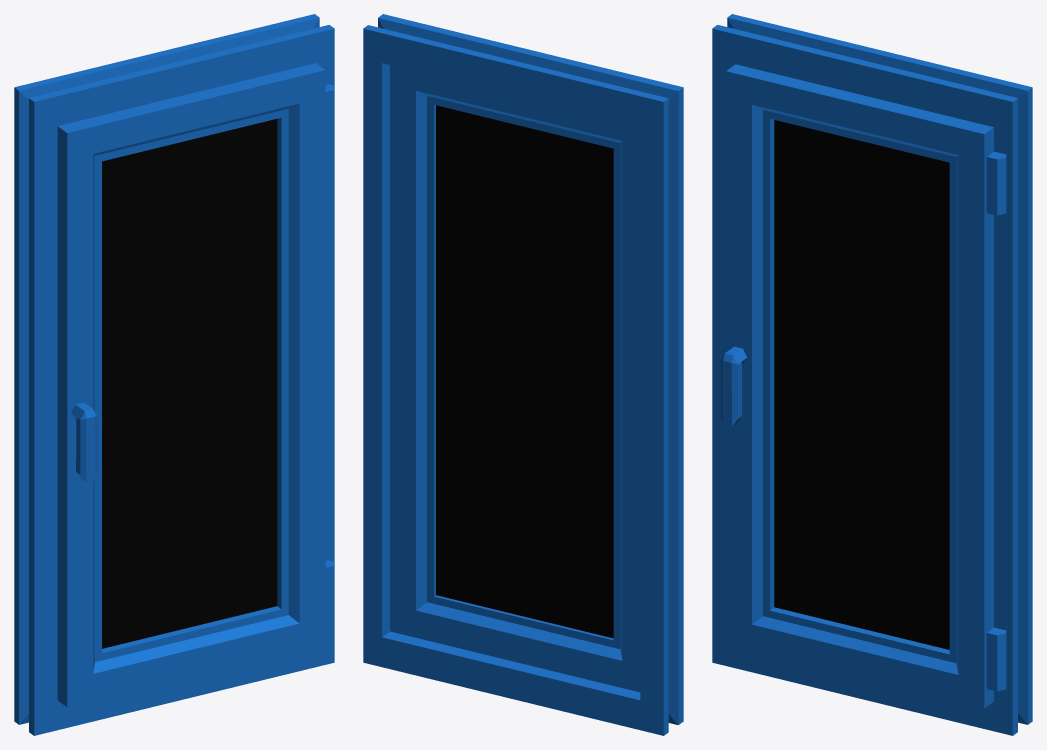
The model's file is space_window_2.fbx.
3 renders of one model, left to right at view 1: azimuth 30°, elevation 25°; view 2: azimuth 150°, elevation 25°; view 3: azimuth 330°, elevation 25°, orthographic.
Parts seen in each view (by area): view 1: Cube_87; view 2: Cube_87; view 3: Cube_87.
Part boxes in pixels (x1,y1,x2,y2): Cube_87: (14,14,334,735); Cube_87: (363,14,683,735); Cube_87: (712,14,1032,735).
Bounding box in the file's own units: 69.47 × 140 × 16.28.
